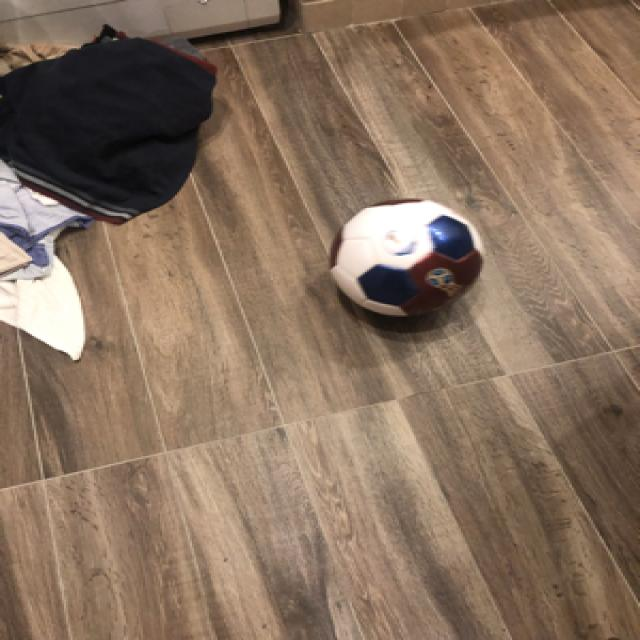soccer_ball: (324, 195, 486, 318)
